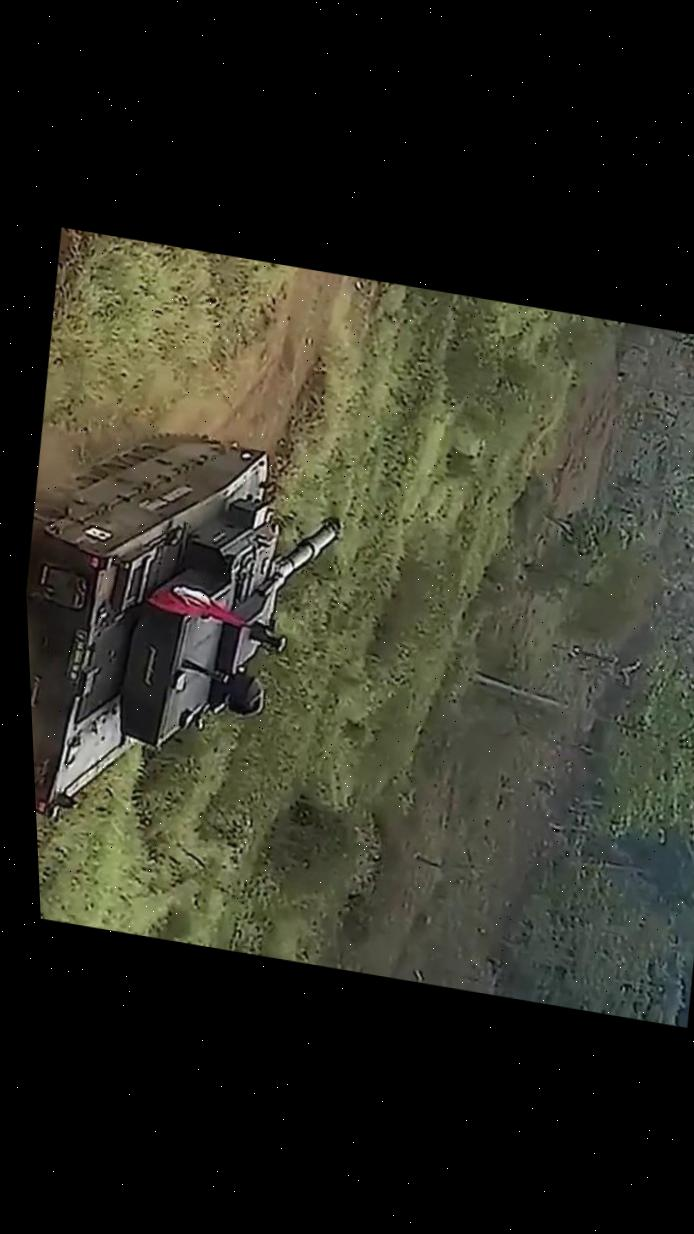tank: (18, 405, 367, 867)
